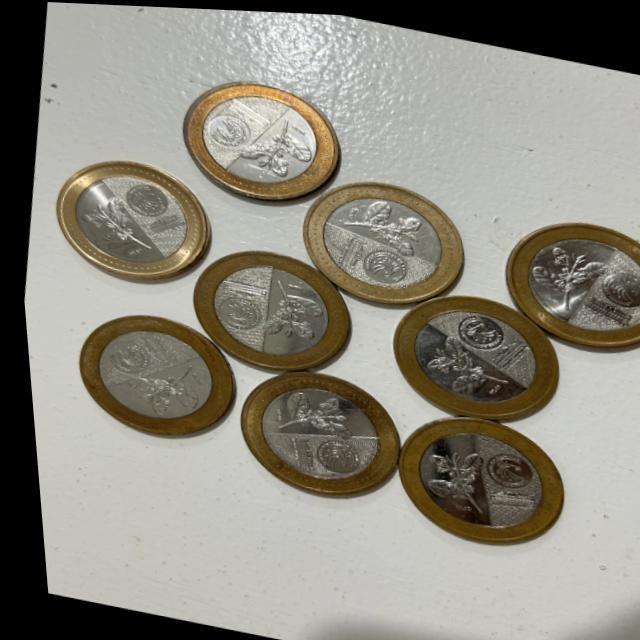20_New_Back: (68, 187, 156, 264), (413, 326, 504, 398), (520, 234, 602, 310), (234, 105, 314, 180), (331, 188, 423, 253), (411, 439, 487, 515), (251, 274, 327, 349), (264, 382, 352, 443), (125, 355, 203, 418)
